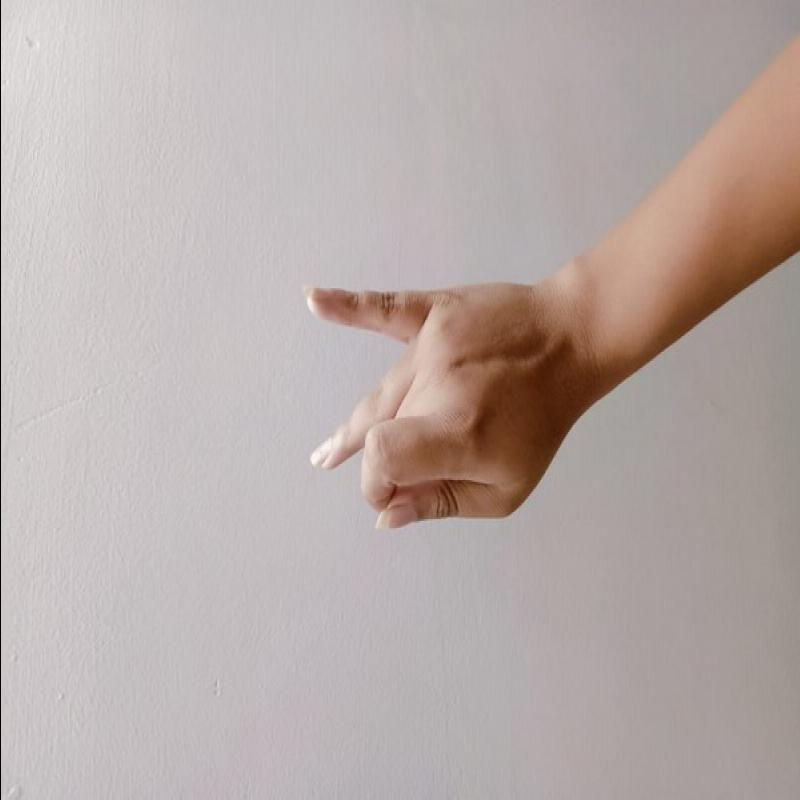Katakam: (291, 258, 577, 543)
